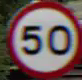Speed limit: (8, 4, 74, 70)
